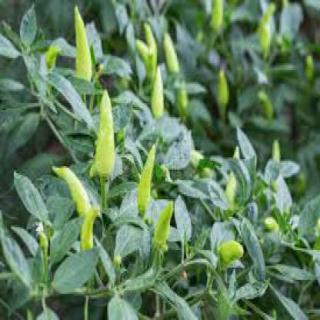green_chilli: (94, 88, 118, 176), (50, 165, 90, 217), (132, 144, 160, 218), (70, 7, 92, 78), (79, 206, 103, 250), (163, 31, 182, 77), (218, 239, 247, 268), (143, 19, 157, 73), (150, 66, 164, 119), (135, 37, 148, 75)
